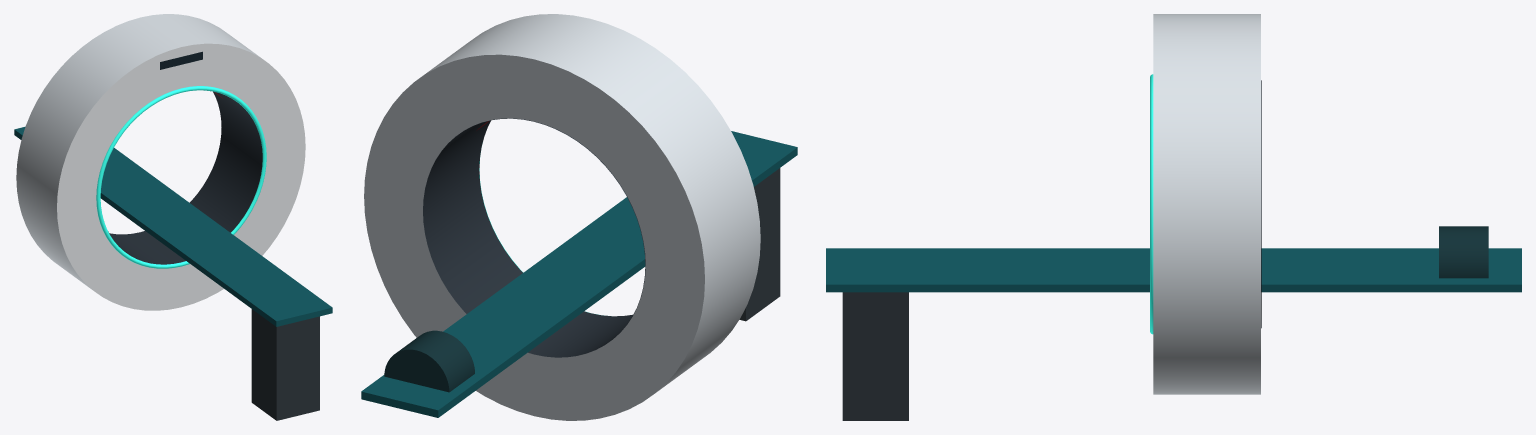
Rendered from ct-scanner.glb.
The picture shows the model from 3 angles, left to right: view 1: azimuth 30°, elevation 25°; view 2: azimuth 150°, elevation 25°; view 3: azimuth 270°, elevation 25°; orthographic projection. The views are drawn at different scales.
Parts seen in each view (by area): view 1: frontFace, housingShell, tableTop, boreWall, tableBase, bezel, statusStrip; view 2: backFace, housingShell, tableTop, boreWall, headPad, tableBase; view 3: housingShell, tableTop, tableBase, headPad, bezel.
Boxes of the visible parts, <box> form: frontFace: <box>57,43,305,310</box>; housingShell: <box>16,14,263,289</box>; tableTop: <box>14,126,332,326</box>; boreWall: <box>108,90,262,264</box>; tableBase: <box>251,309,319,420</box>; bezel: <box>96,86,266,268</box>; statusStrip: <box>160,51,202,69</box>; backFace: <box>364,54,704,420</box>; housingShell: <box>420,14,760,391</box>; tableTop: <box>361,131,797,417</box>; boreWall: <box>423,118,645,357</box>; headPad: <box>384,330,474,392</box>; tableBase: <box>739,168,780,321</box>; housingShell: <box>1153,14,1260,394</box>; tableTop: <box>826,248,1521,292</box>; tableBase: <box>842,292,908,420</box>; headPad: <box>1439,226,1488,278</box>; bezel: <box>1150,74,1153,334</box>.
Bounding box in the file's own units: 23 × 25 × 42.
